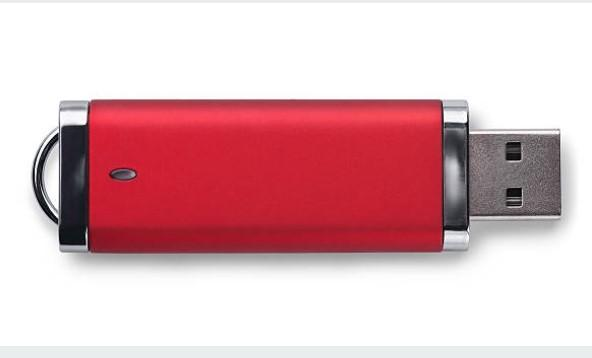USB Flash Drive: (32, 100, 563, 253)
